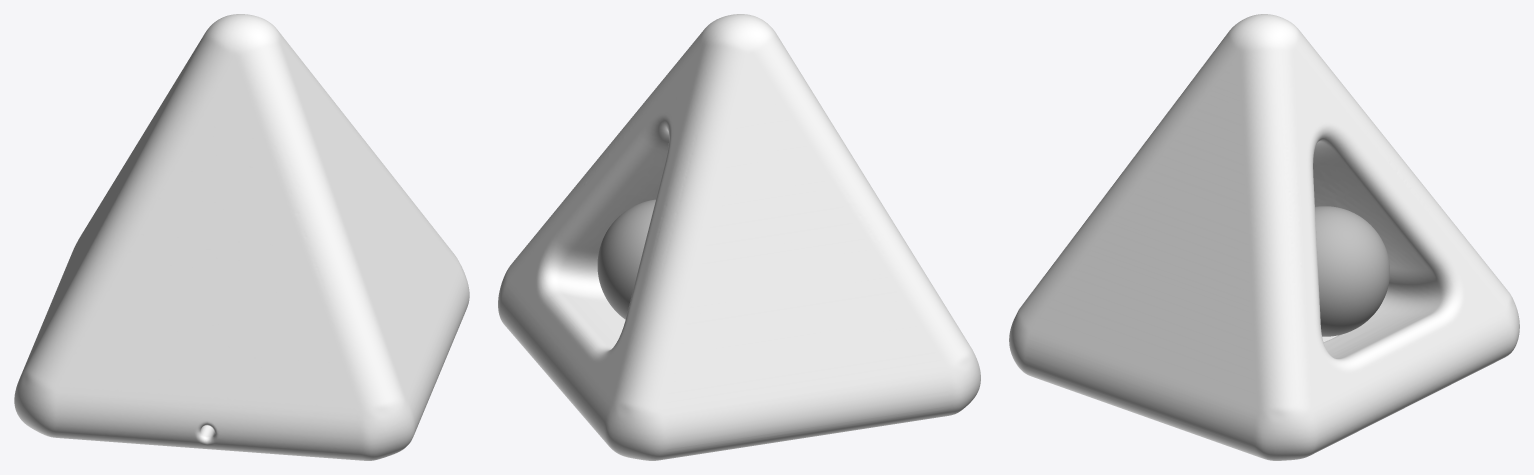
Rendered from lamp-original.glb.
3 views of the same model, side by side, from view 1: azimuth 30°, elevation 25°; view 2: azimuth 150°, elevation 25°; view 3: azimuth 270°, elevation 25° (orthographic). The views are drawn at different scales.
Parts seen in each view (by area): view 1: Gravity; view 2: Gravity; view 3: Gravity.
Boxes of the visible parts, <box> form: Gravity: <box>14,14,469,460</box>; Gravity: <box>498,14,980,460</box>; Gravity: <box>1009,14,1519,460</box>.
Bounding box in the file's own units: 235 × 175 × 235.
1 material, 1 textured.
